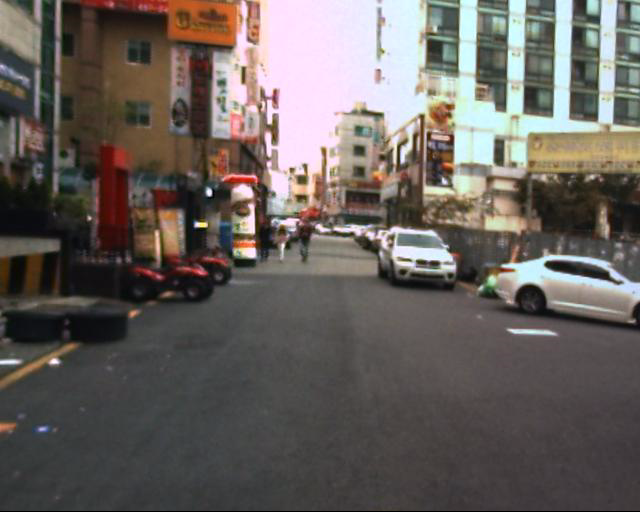person: (294, 212, 319, 272), (255, 209, 277, 269), (273, 215, 293, 267)
